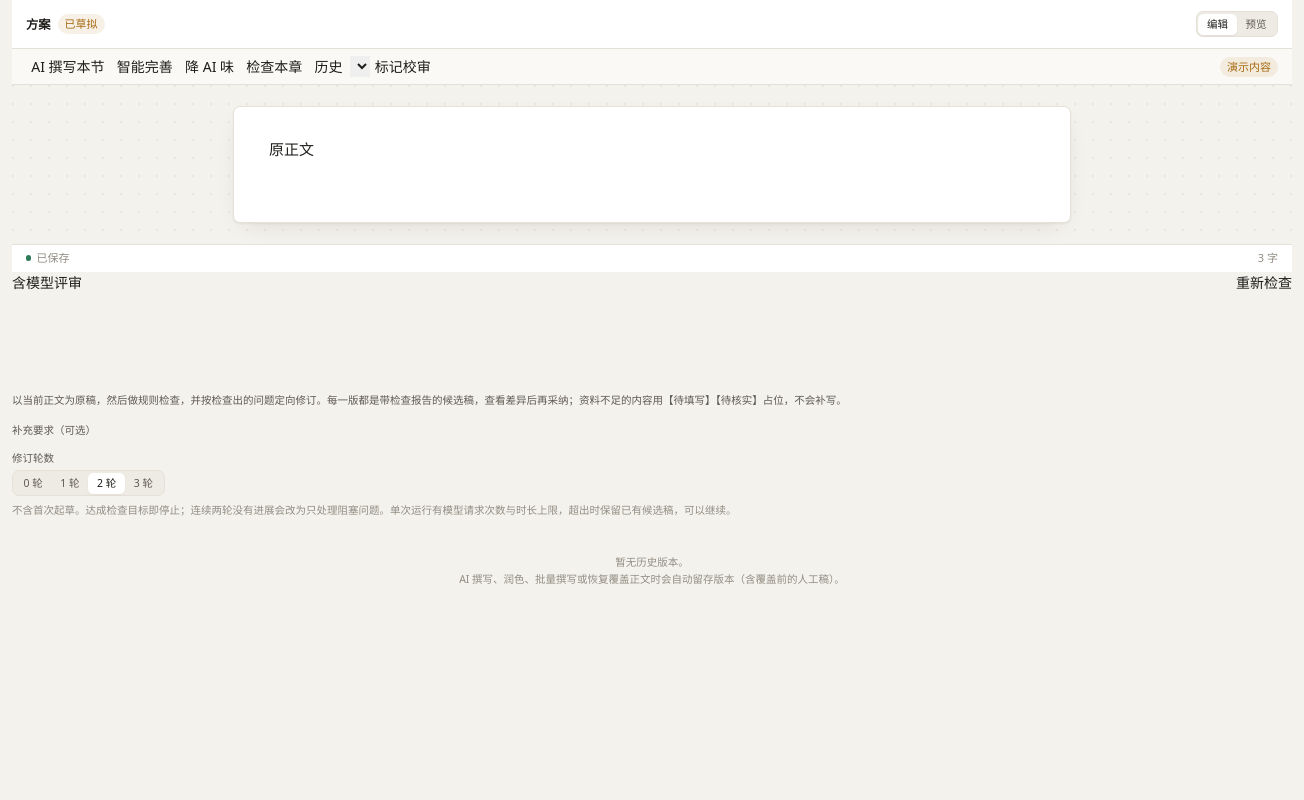
Test: 批量完成与编辑器刷新 › 等待中的保存完成后继续保存较新的输入，不并发发送自动保存
The image size is (1304, 800).
Replace the text in the text box with "第一版" at (652, 164), box top-left (234, 107), bottom-right (1070, 222)
Wait 1500 ms
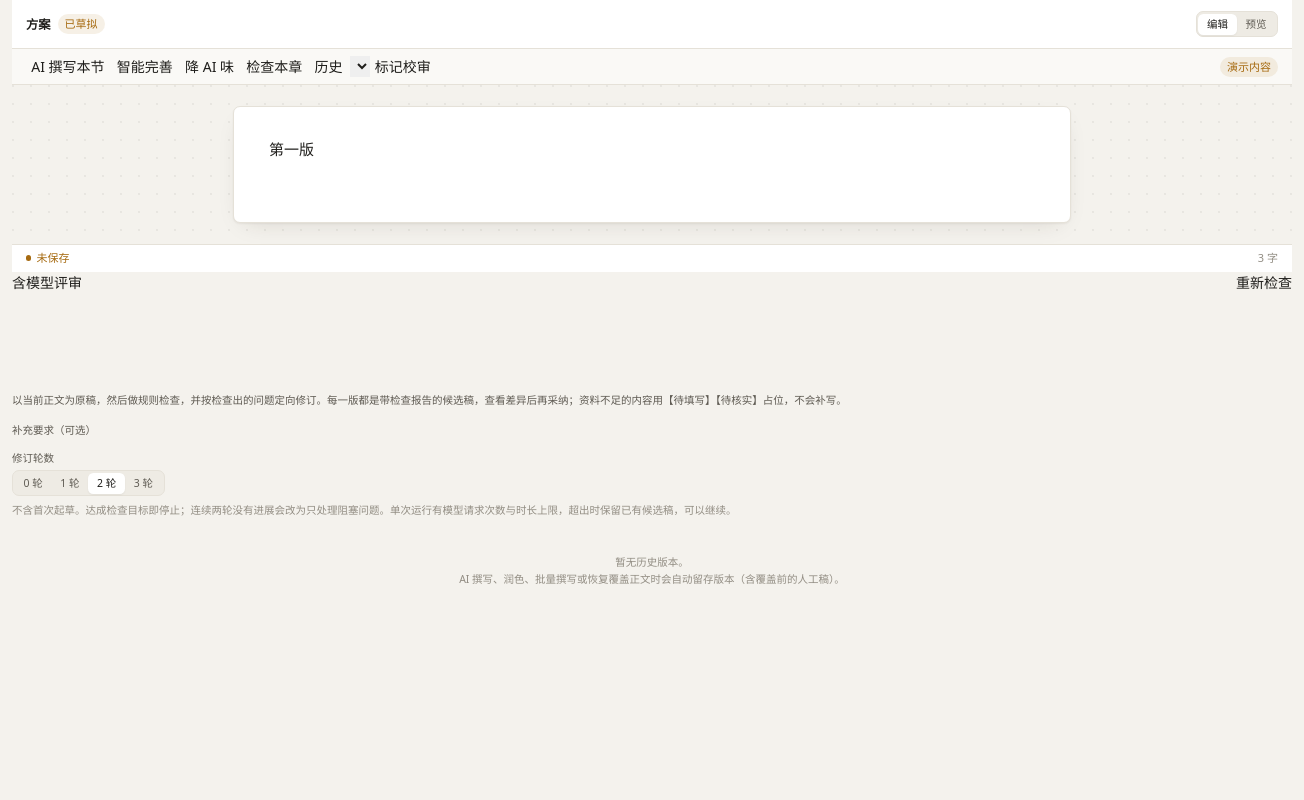
Replace the text in the text box with "第二版" at (652, 164), box top-left (234, 107), bottom-right (1070, 222)
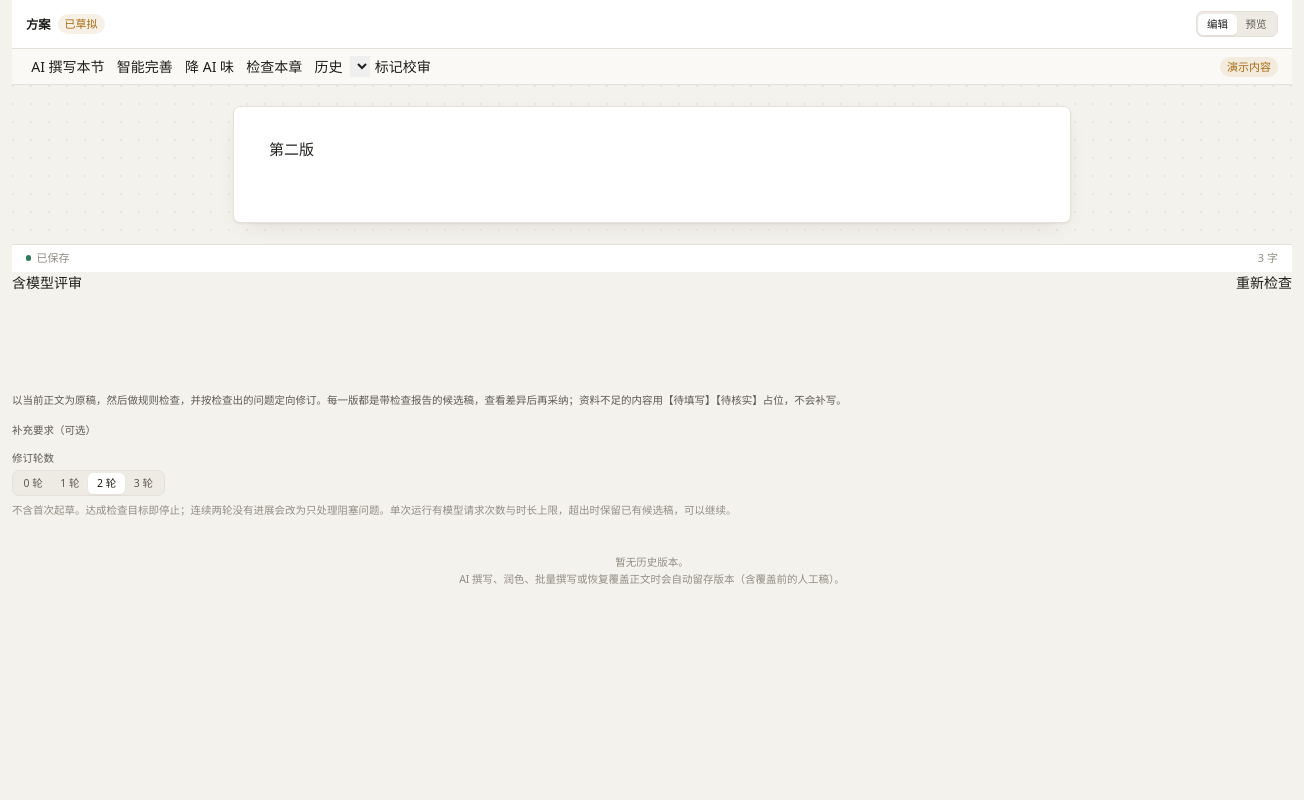
Now the text "已保存" is shown, box top-left (26, 250), bottom-right (70, 266)
